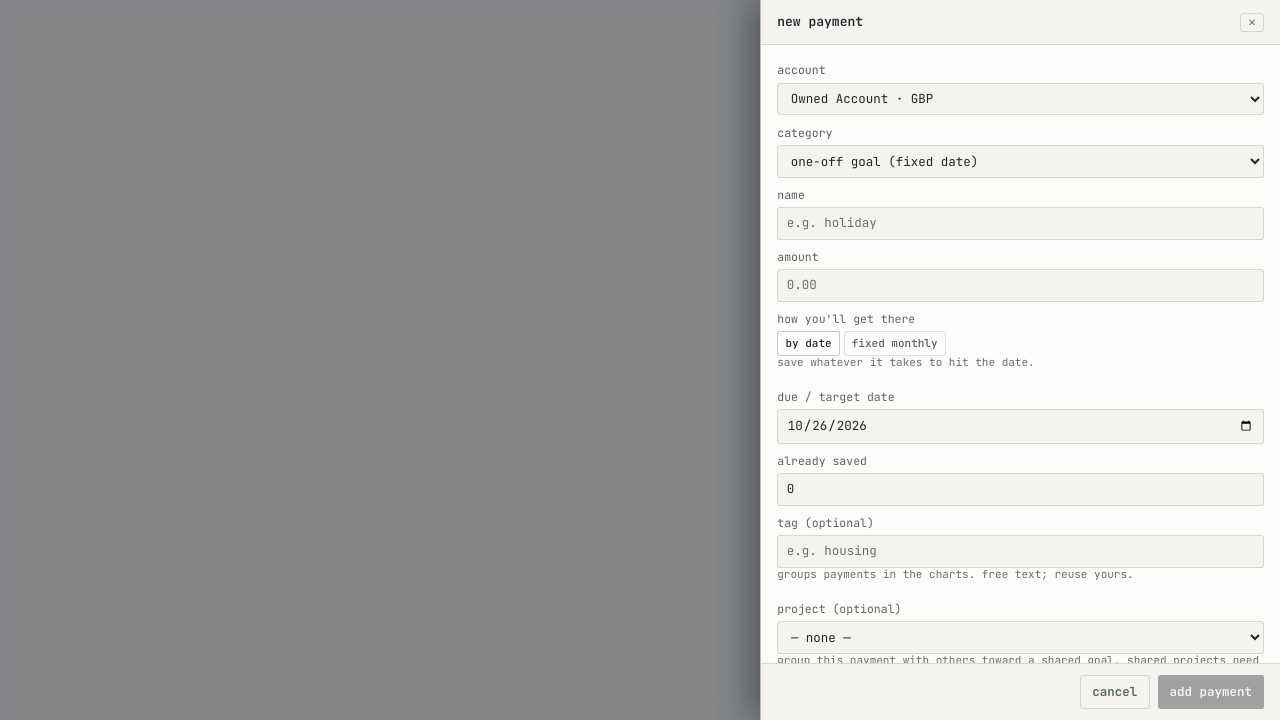
NewPaymentDrawer · goal modes › blocks submit until a paced goal has a monthly amount
Expected: the dropdown labelled "account" shows "Owned Account · GBP", [777,83,1264,115]
Type "New telly" into the field with placeholder "e.g. holiday" at (1021, 223), box [777,207,1264,240]
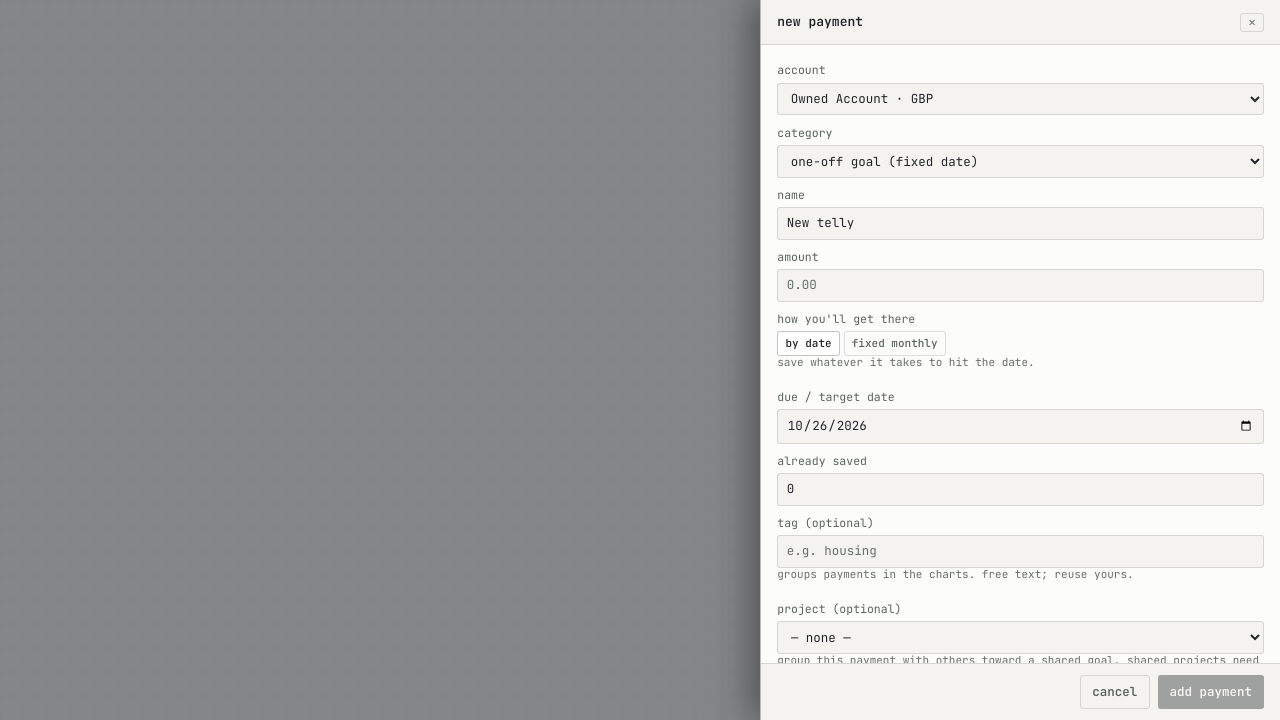
Type "1200" into the field labelled "amount" at (1021, 285), box [777,269,1264,302]
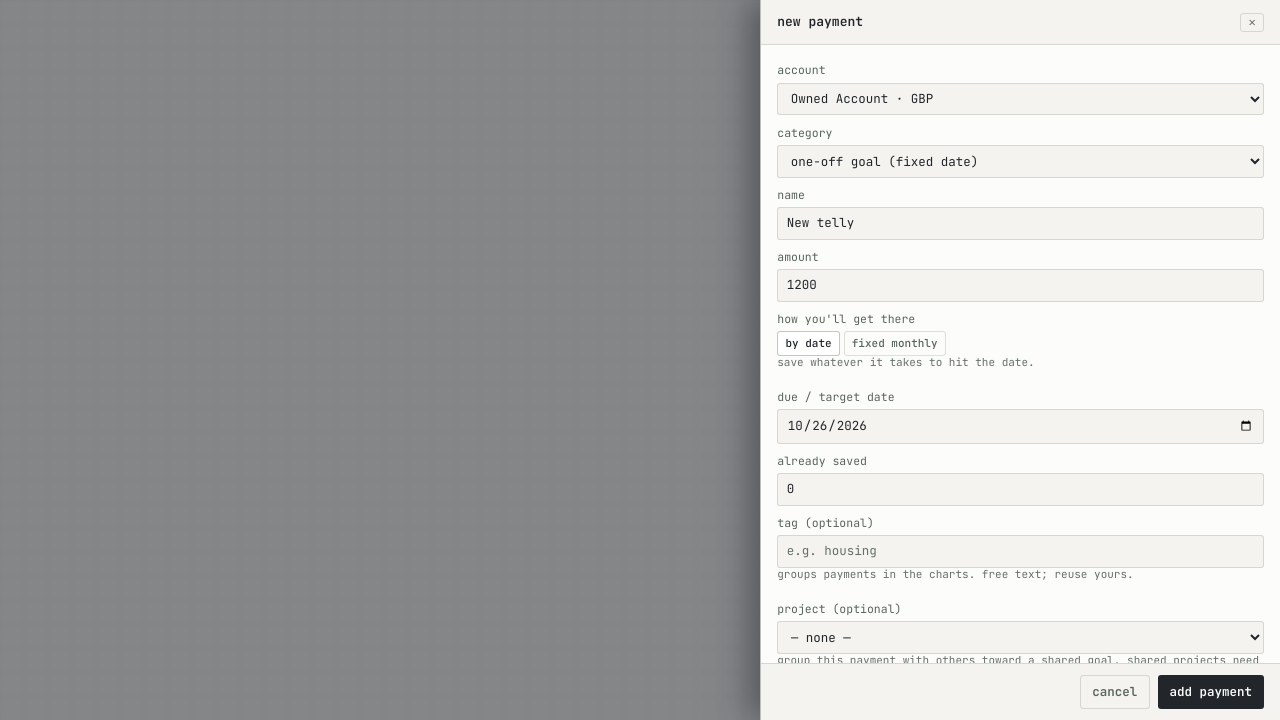
Click the button "fixed monthly" at (895, 344), box [844,331,946,356]
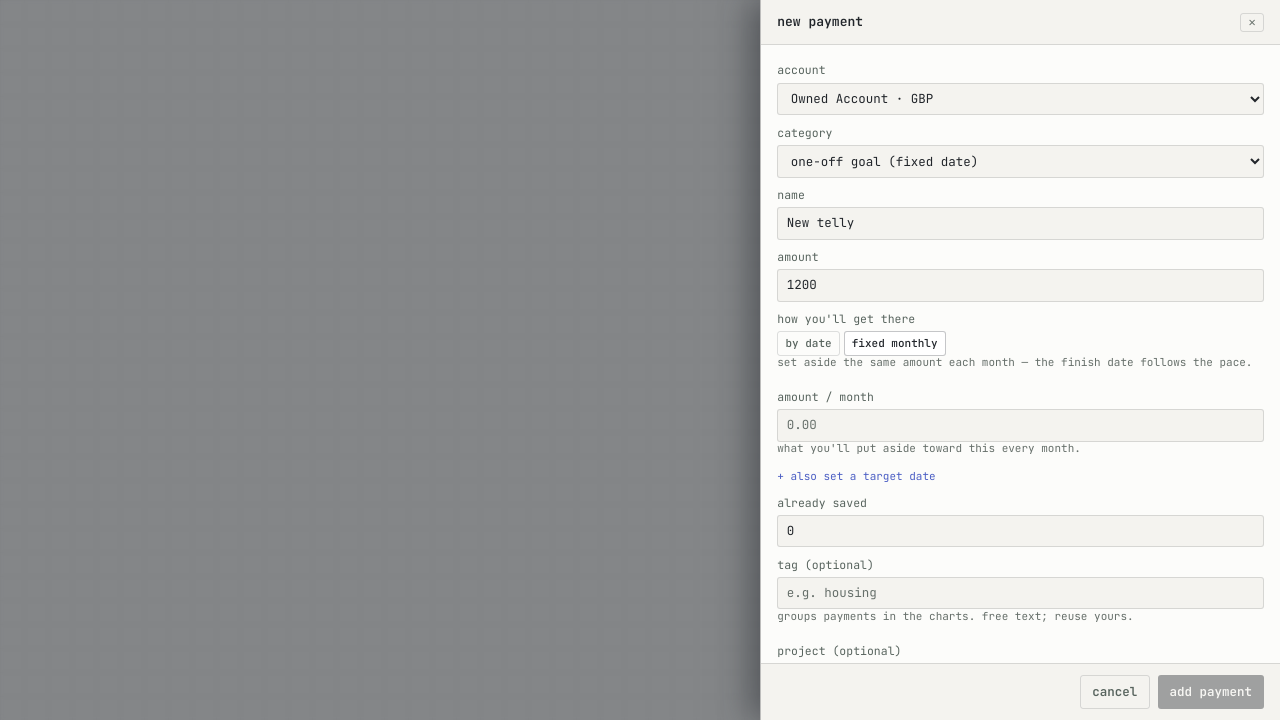
Result: the button "add payment" is disabled at [1158,675,1264,709]
Type "0" into the field labelled "amount / month" at (1021, 426), box [777,409,1264,442]
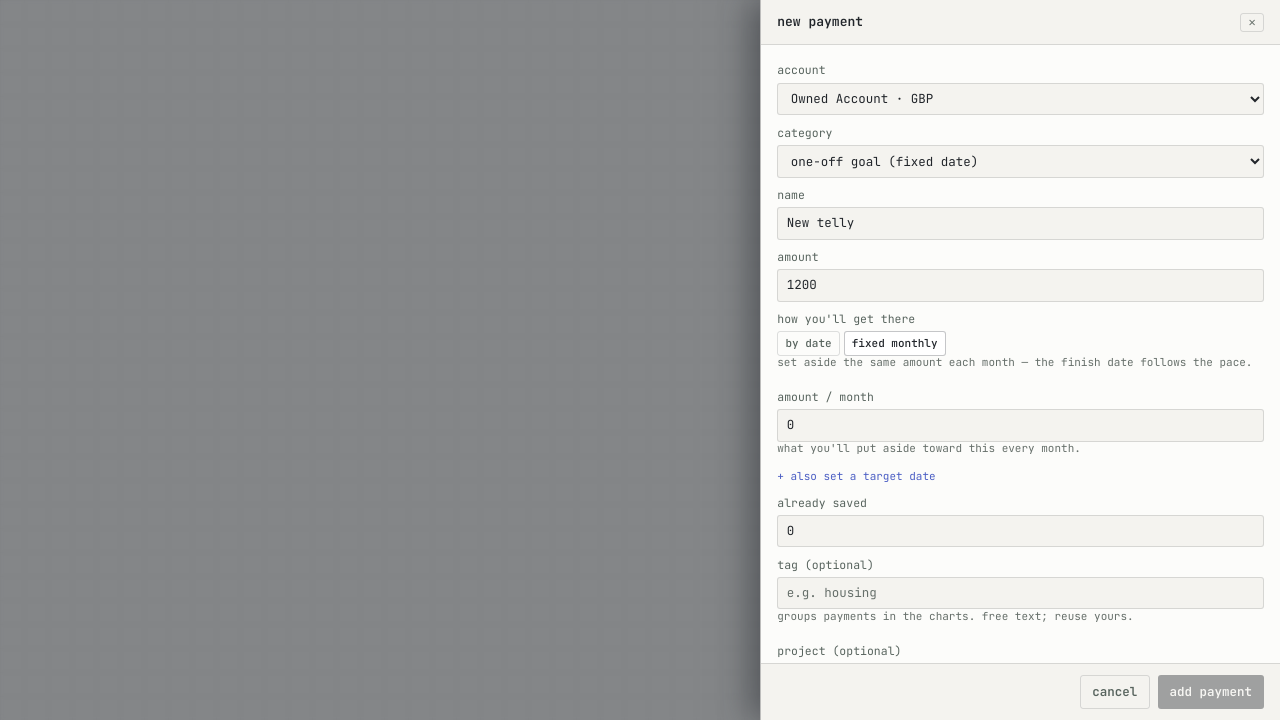
Result: the button "add payment" is disabled at [1158,675,1264,709]
Replace the text in the field labelled "amount / month" with "25" at (1021, 426), box [777,409,1264,442]
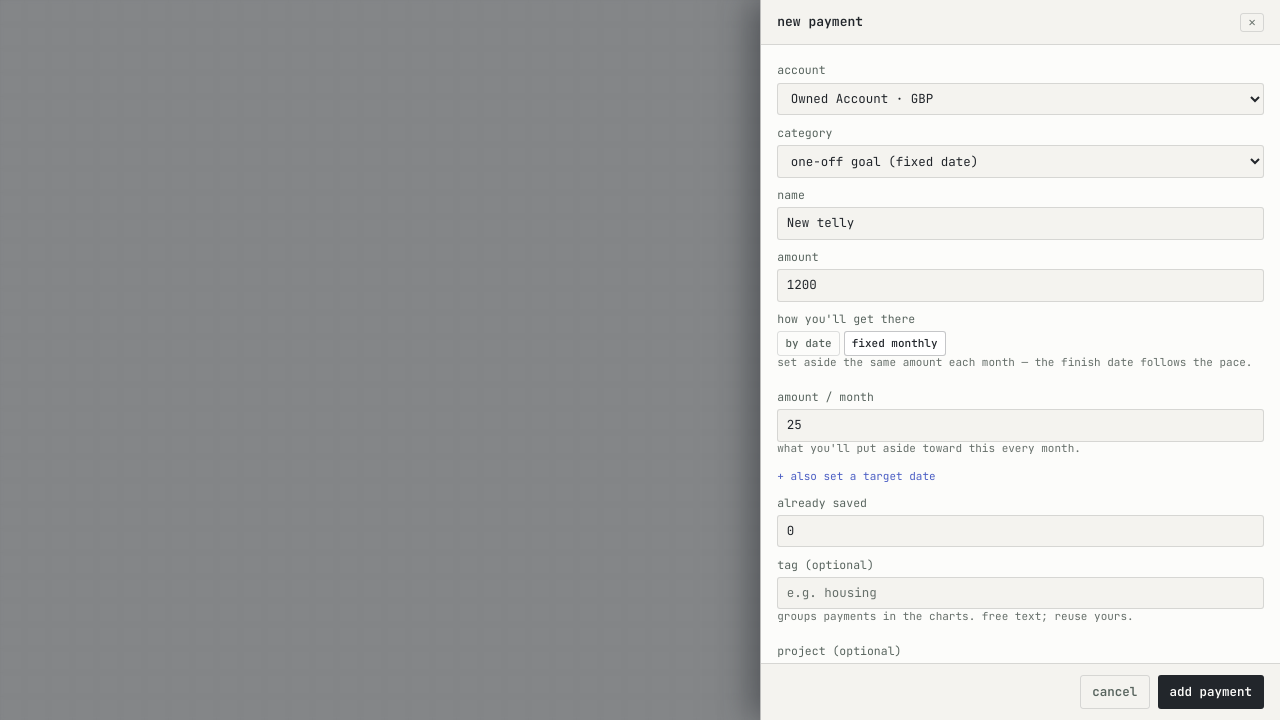
Result: the button "add payment" is enabled at [1158,675,1264,709]
